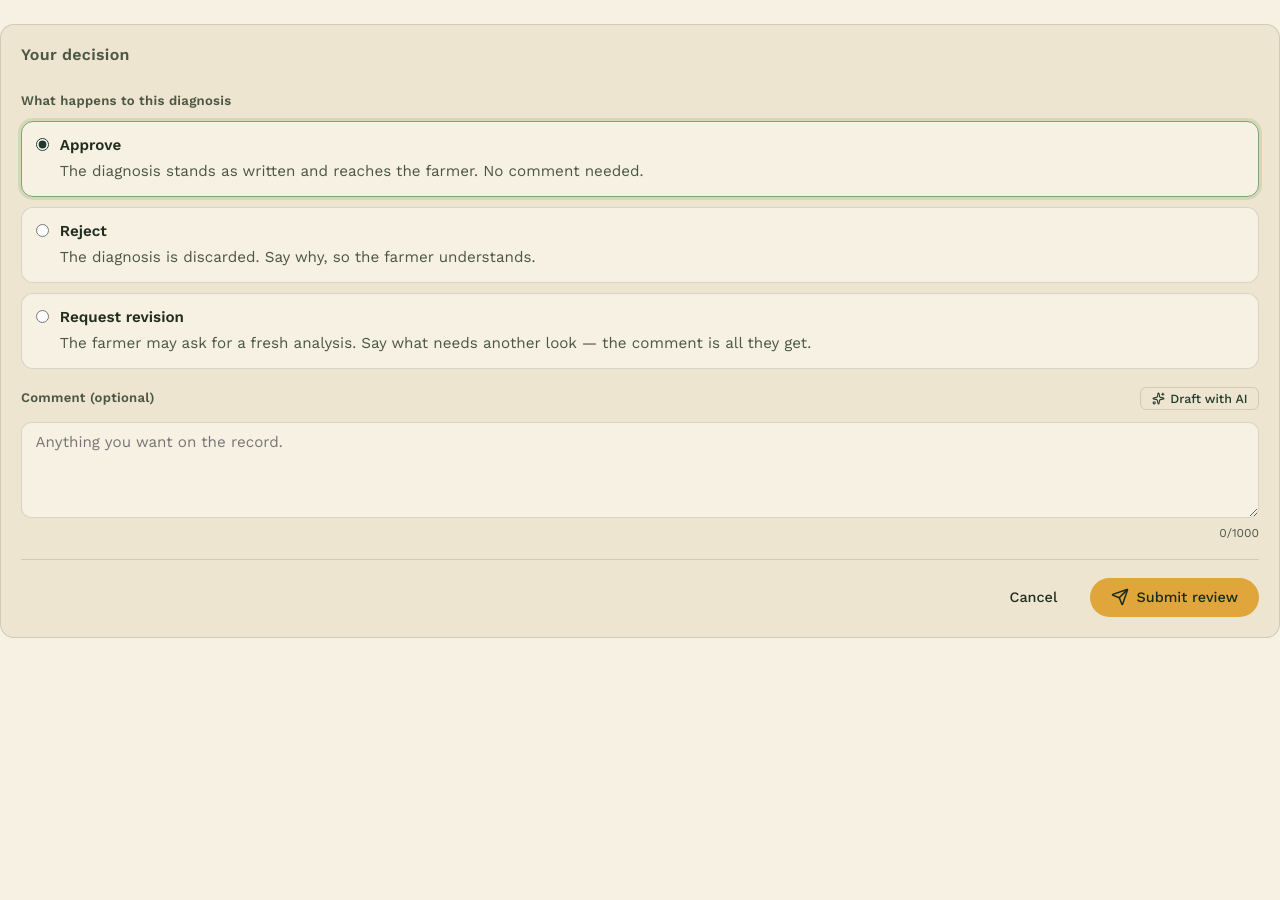
Test: AI draft comments in the officer review forms › report form: a draft fills the comment box, a 403 shows its message
Click the button "Draft with AI": (1200, 398) [1140, 387, 1259, 410]
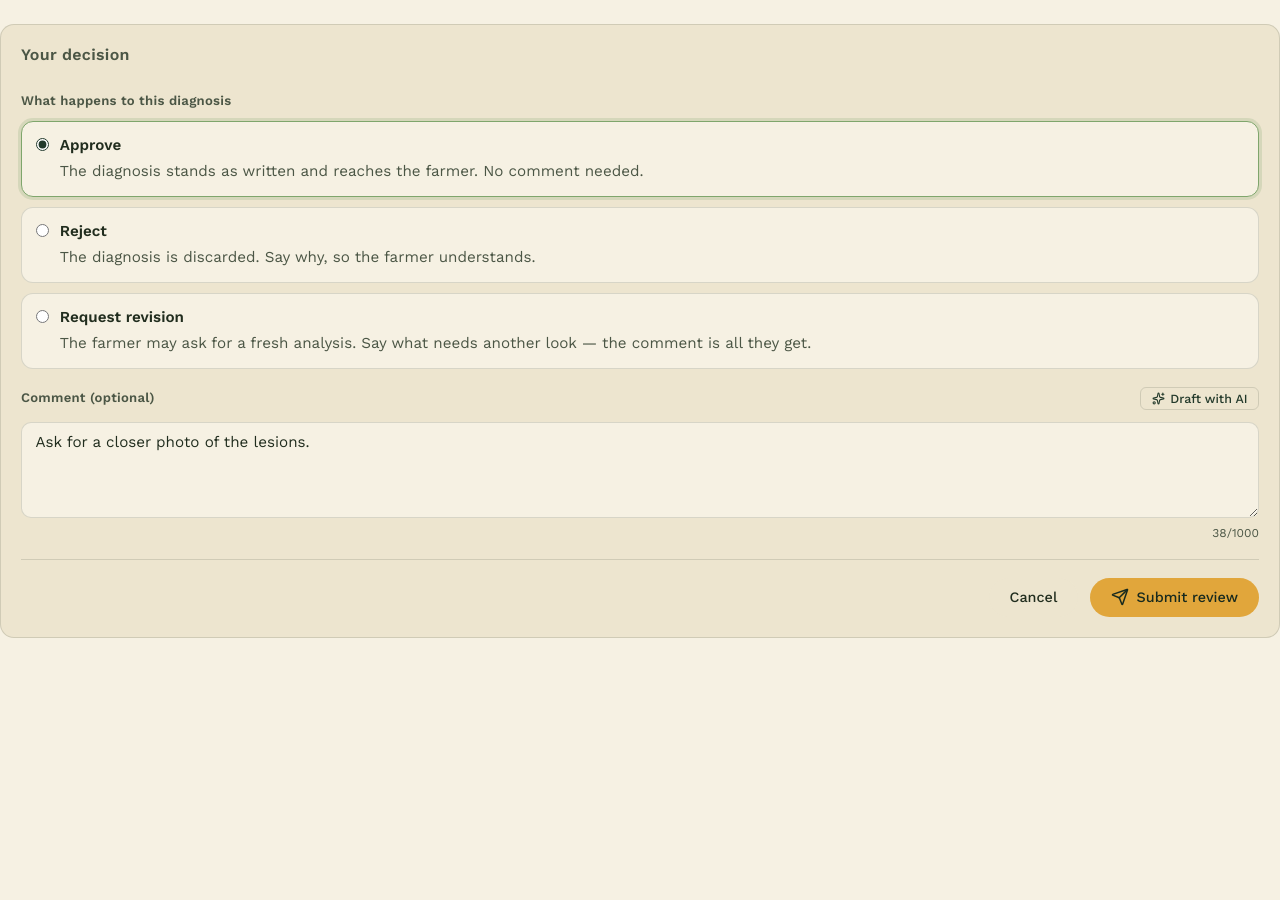
Expected: the text box holds "Ask for a closer photo of the lesions.", [21, 422, 1259, 518]
Click the button "Draft with AI": (1200, 398) [1140, 387, 1259, 410]
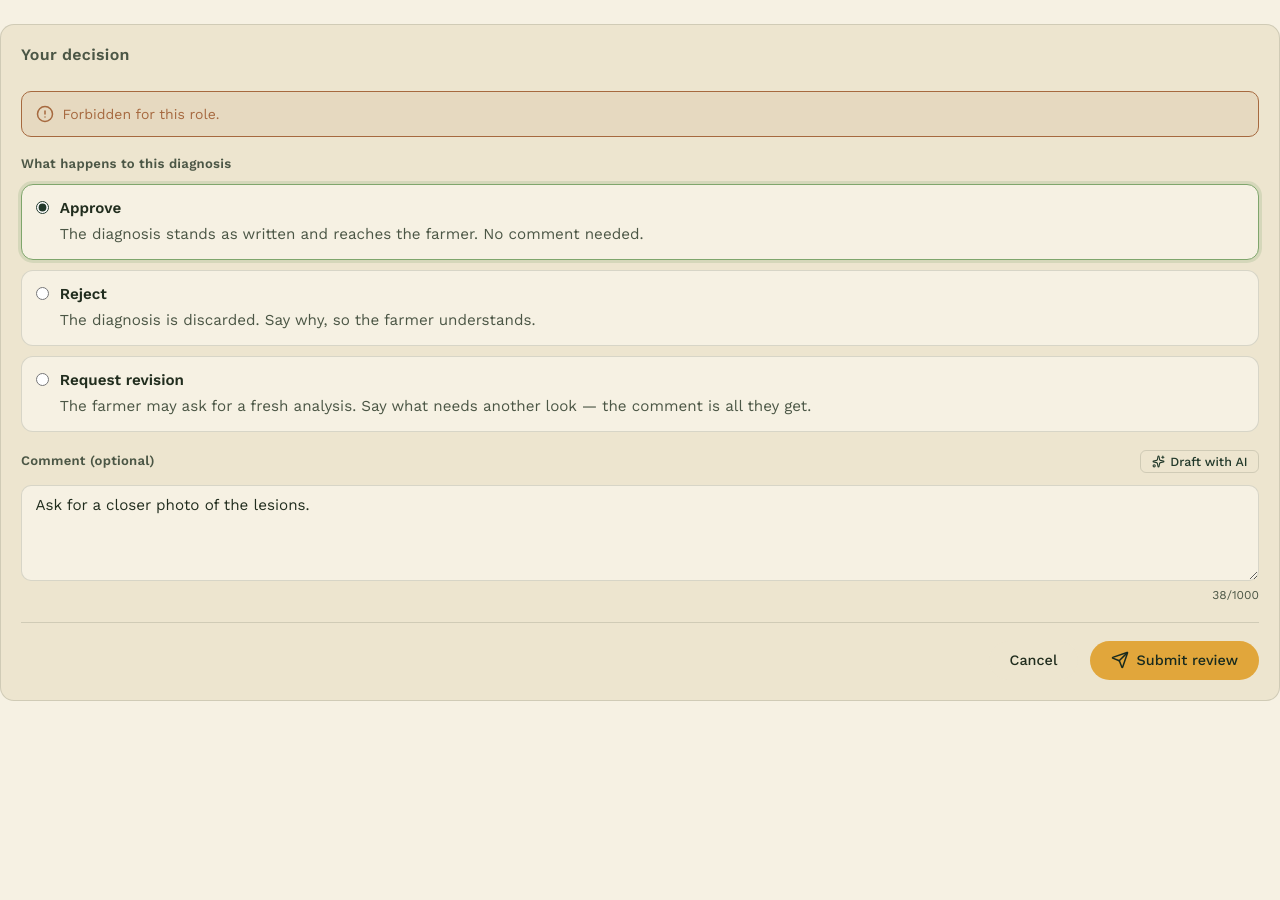
Expected: the message reads "Forbidden for this role.", [62, 106, 220, 122]
